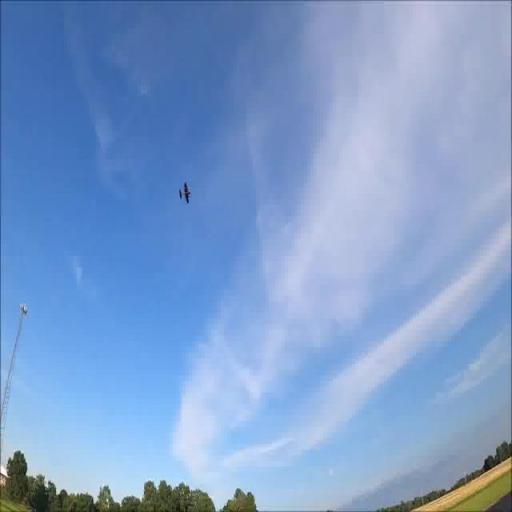uav: (174, 180, 194, 210)
